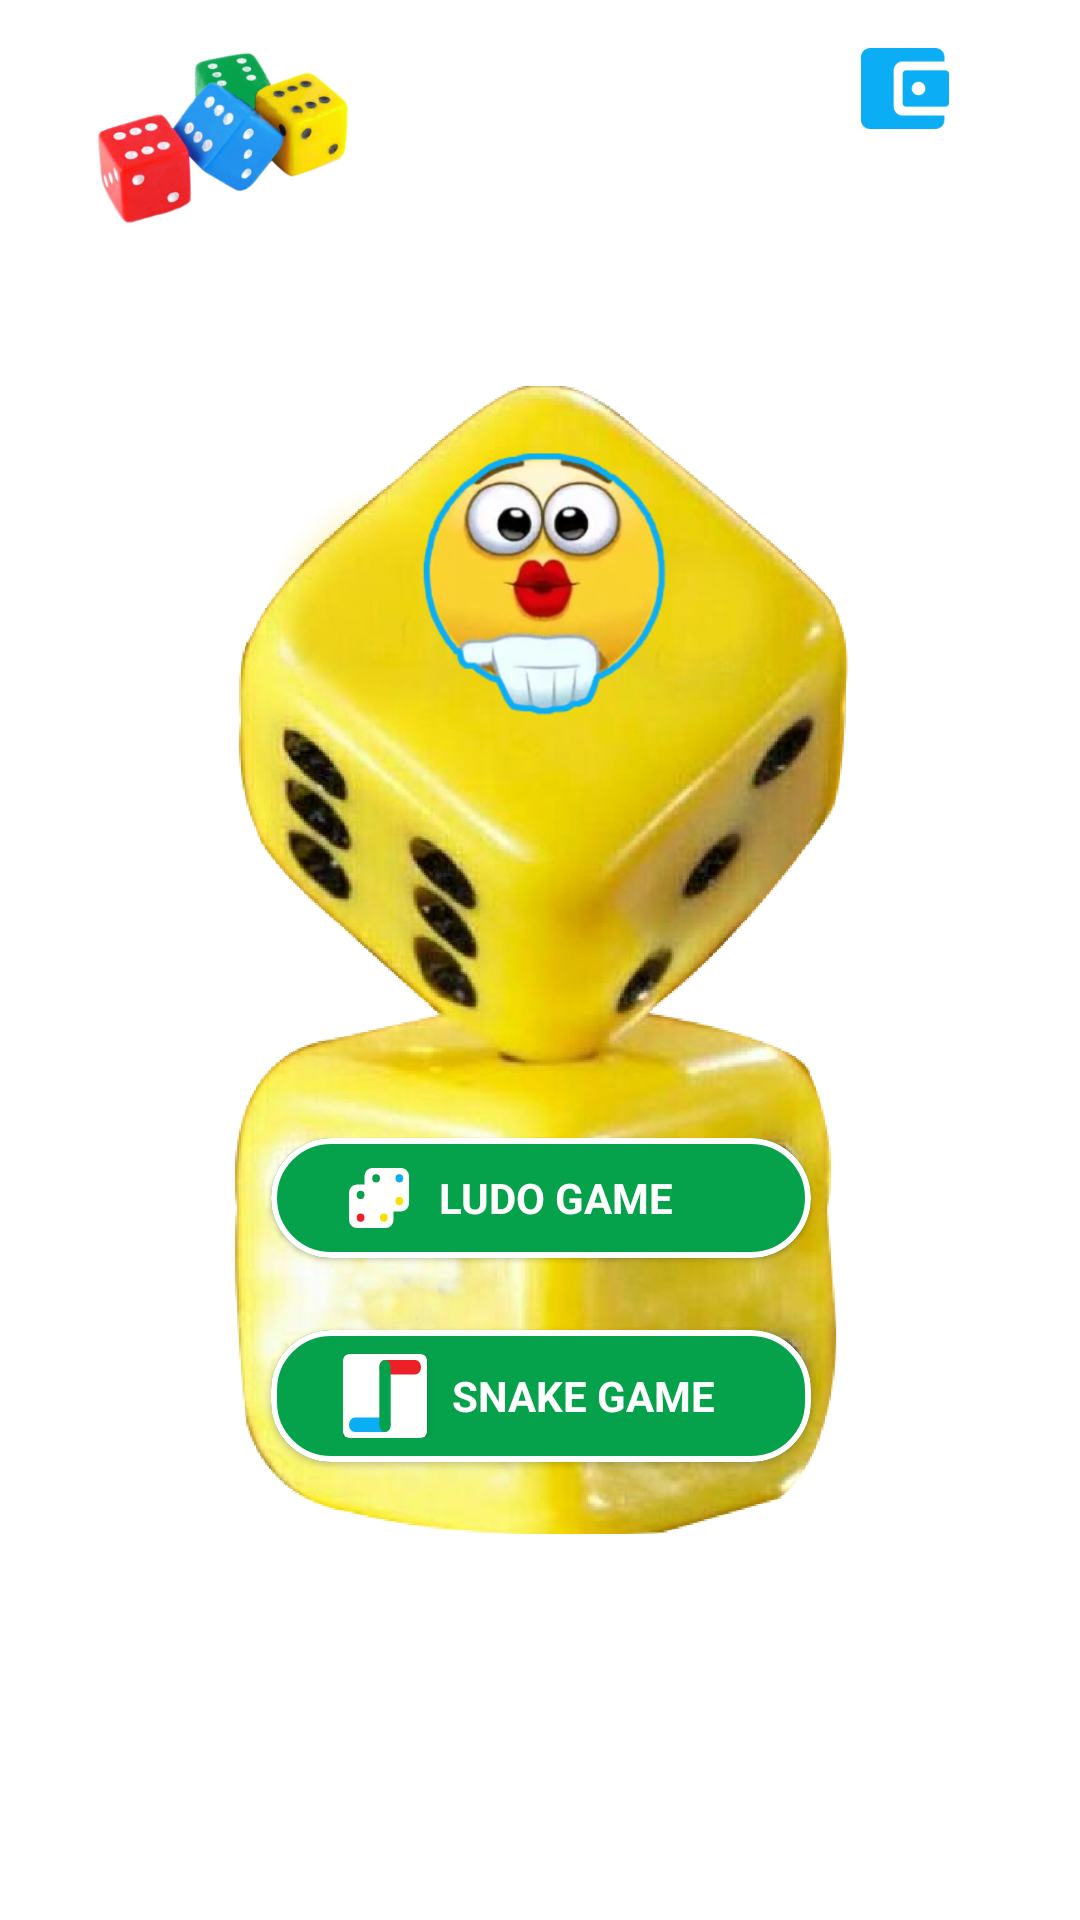

Icon click points for this 1080px x 1920px phone screenshot, format (x=x, y=y):
cutesmile: (x=541, y=587)
wallet: (x=905, y=88)
